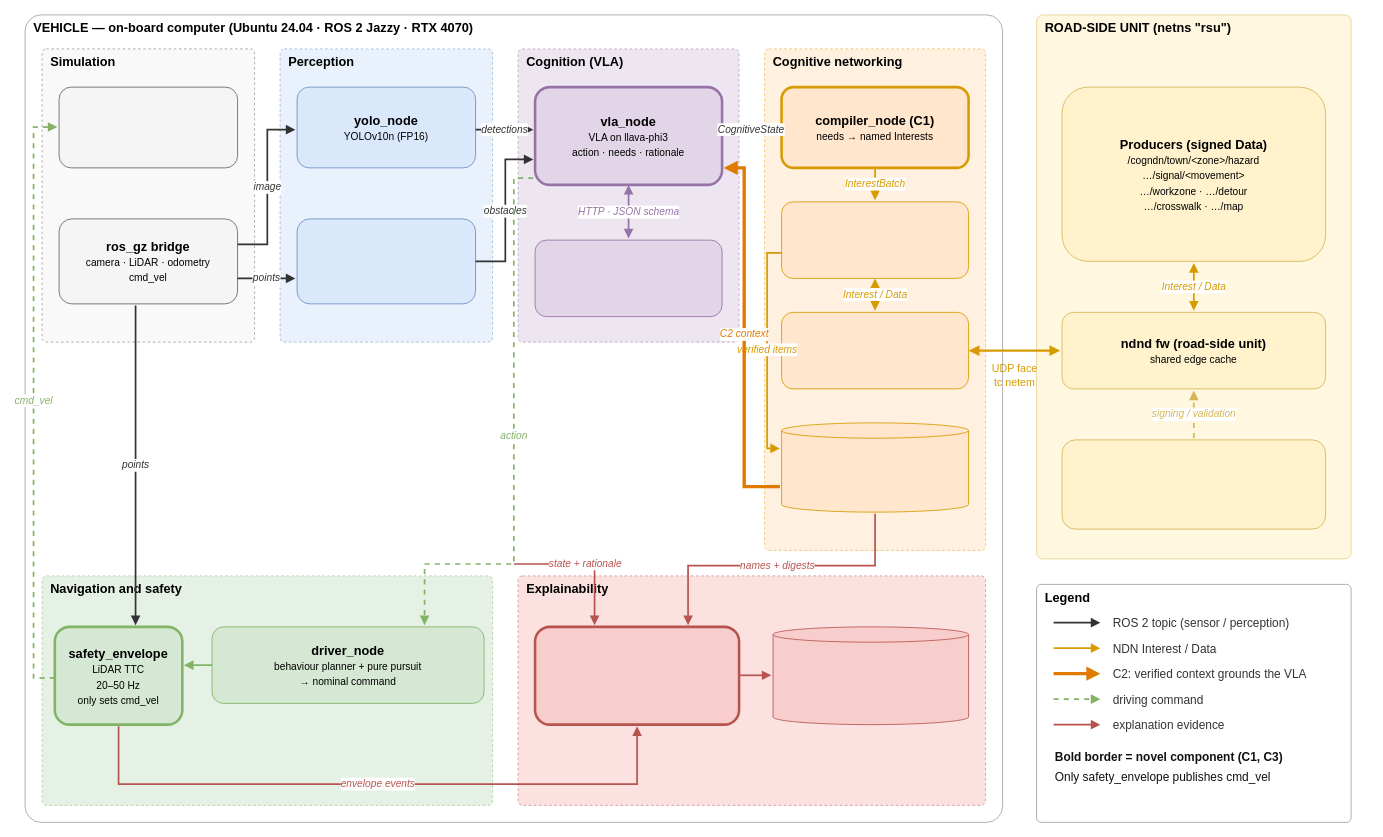
Some shapes in this 1383 by 837 pixel diagram are drawn without their labels. Each missing label, with the centre of its shape:
"explain_node (C3) evidence binding grounding check" goes at (636,675).
"gz sim Gazebo Harmonic generated town · Prius" goes at (148,127).
"Keys + trust schema ECDSA P-256 type-based trust policy" goes at (1193,484).
"ledger.db SQLite (WAL) hash-chained records" goes at (870,675).
"lidar_cluster_node obstacle clusters" goes at (386,261).
"ndn_consumer_node segmented fetch · verifies" goes at (875,239).
"ndnd fw (vehicle) CS · PIT · FIB" goes at (875,350).
"Ollama server llava-phi3 (4-bit), GPU" goes at (628,278).
"redis-server named context store TTL = freshness" goes at (875,467).
